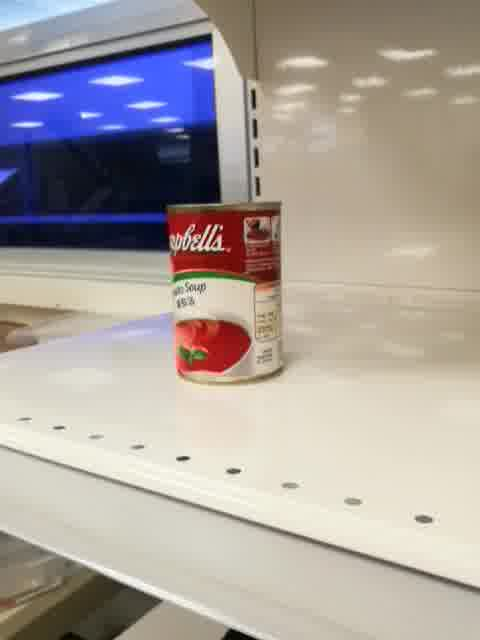tomatosoup: (163, 198, 286, 387)
